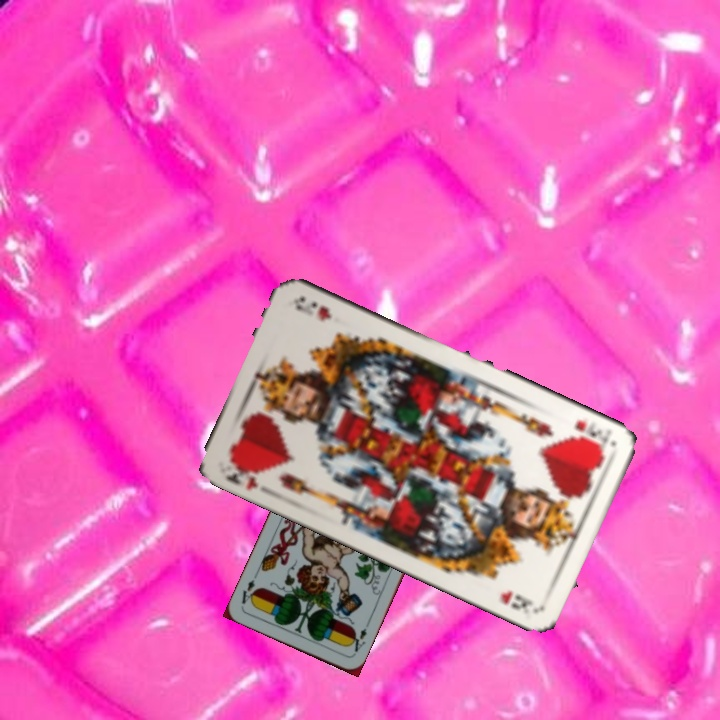EA: (345, 624, 370, 658)
HK: (220, 454, 268, 492), (570, 416, 615, 451)
